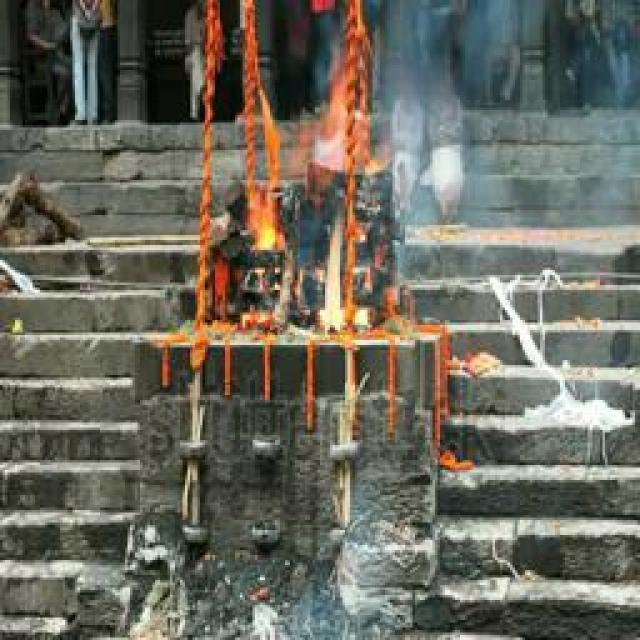Fire: (240, 88, 366, 334)
